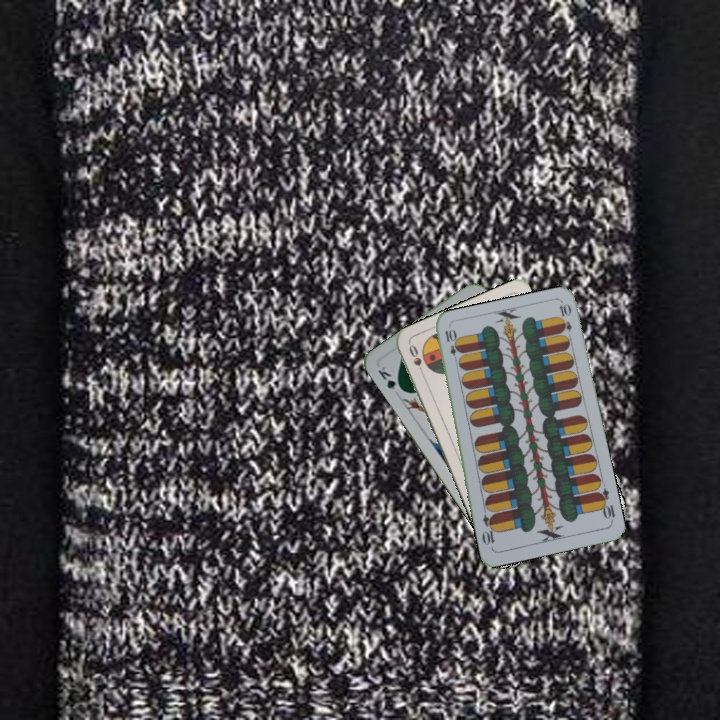E10: (593, 485, 618, 525), (441, 325, 461, 366)
GK: (373, 362, 406, 395)
SO: (405, 340, 427, 379)
